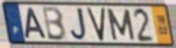2: (133, 7, 155, 44)
A: (24, 7, 49, 40)
B: (42, 5, 68, 43)
J: (69, 7, 88, 42)
M: (105, 8, 137, 42)
V: (86, 6, 106, 43)
